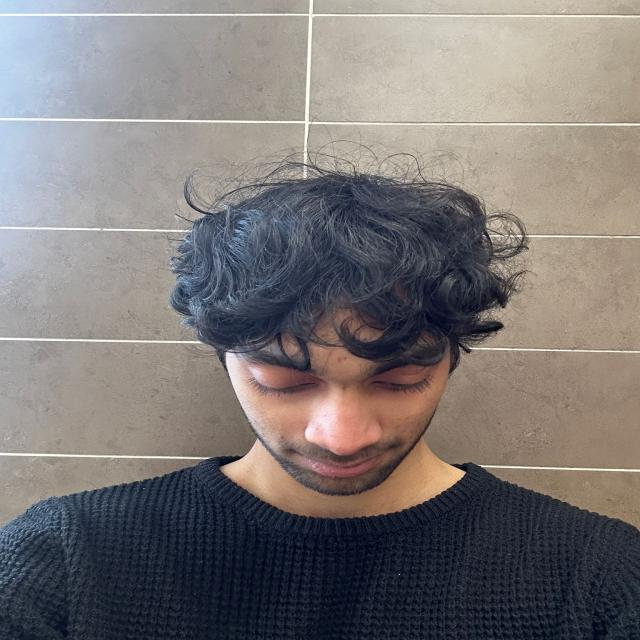nocap: (160, 161, 522, 337)
